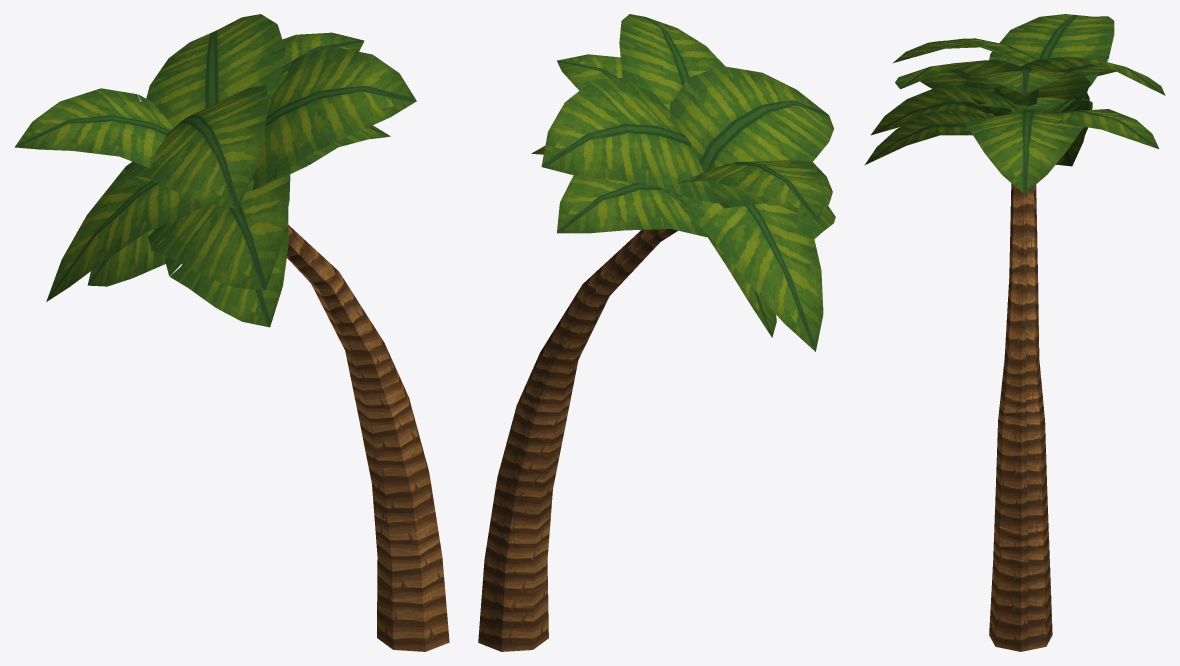
File: MBL_Palm3_v1.fbx
The picture shows the model from 3 angles, left to right: view 1: azimuth 30°, elevation 25°; view 2: azimuth 150°, elevation 25°; view 3: azimuth 270°, elevation 25°; orthographic projection. The views are drawn at different scales.
Visible parts, largest first — view 1: MBL_Palm3_v1_trunkShape; view 2: MBL_Palm3_v1_trunkShape; view 3: MBL_Palm3_v1_trunkShape.
Boxes of the visible parts, bbox=[...] form: MBL_Palm3_v1_trunkShape: bbox=[15, 14, 449, 651]; MBL_Palm3_v1_trunkShape: bbox=[478, 14, 835, 651]; MBL_Palm3_v1_trunkShape: bbox=[864, 14, 1165, 651].
Size of the model in its own units: 5.12 by 7.85 by 3.97.
2 materials, 2 textured.
